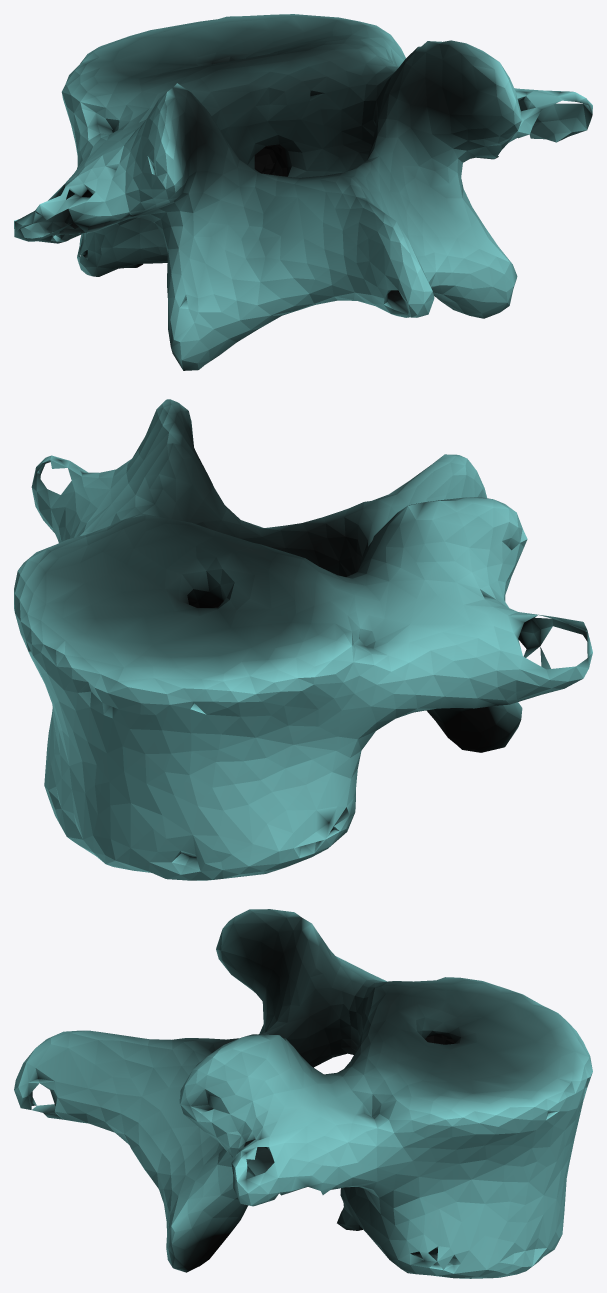
The model's file is Geometry4_lao_11k.dae.
3 views of the same model, one above another, from view 1: azimuth 30°, elevation 25°; view 2: azimuth 150°, elevation 25°; view 3: azimuth 270°, elevation 25° (orthographic). The views are drawn at different scales.
Visible parts, largest first — view 1: node; view 2: node; view 3: node.
Boxes of the visible parts, x1,y1,x2,y2 form: node: [14, 14, 592, 370]; node: [14, 399, 592, 880]; node: [14, 909, 592, 1278].
Bounding box in the file's own units: 87.03 × 42.6 × 84.45.
